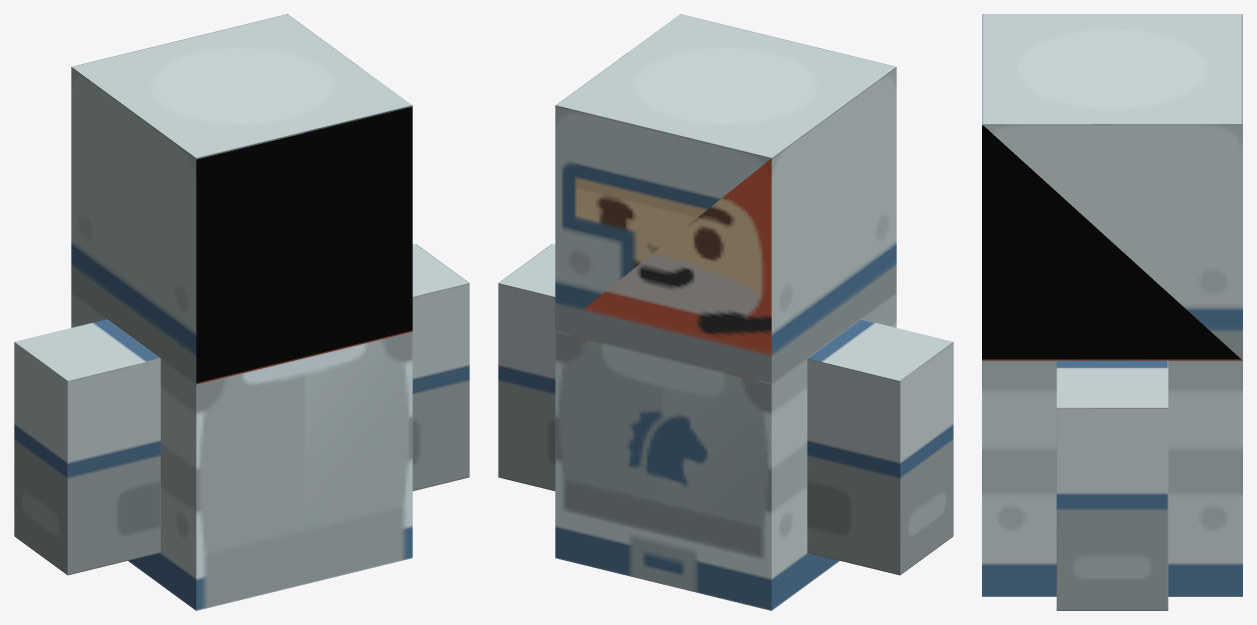
The model's file is knightBlue.glb.
3 renders of one model, left to right at view 1: azimuth 30°, elevation 25°; view 2: azimuth 150°, elevation 25°; view 3: azimuth 270°, elevation 25°, orthographic. The views are drawn at different scales.
Parts seen in each view (by area): view 1: knightBlue; view 2: knightBlue; view 3: knightBlue.
Part boxes in pixels (x1,y1,x2,y2): knightBlue: (14,14,469,610); knightBlue: (498,14,953,610); knightBlue: (982,14,1242,610).
Size of the model in its own units: 4.83 by 5.2 by 2.6.
Materials: 2 (2 with a texture image).
